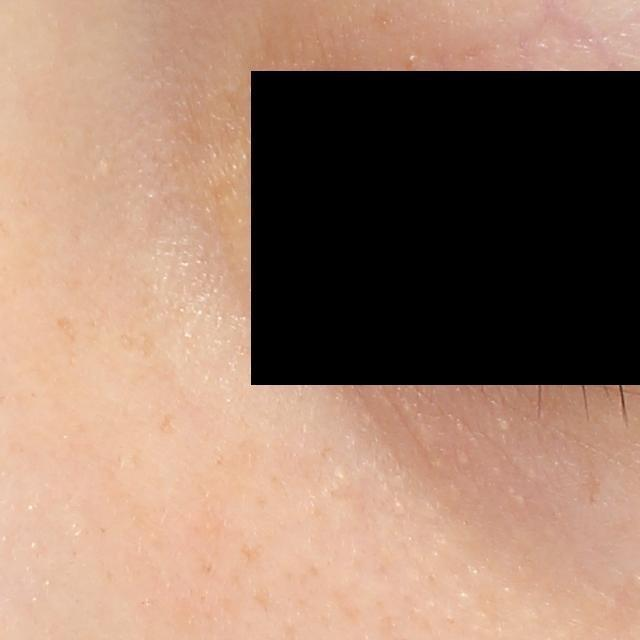melasma: (53, 313, 82, 348), (153, 410, 179, 437)
